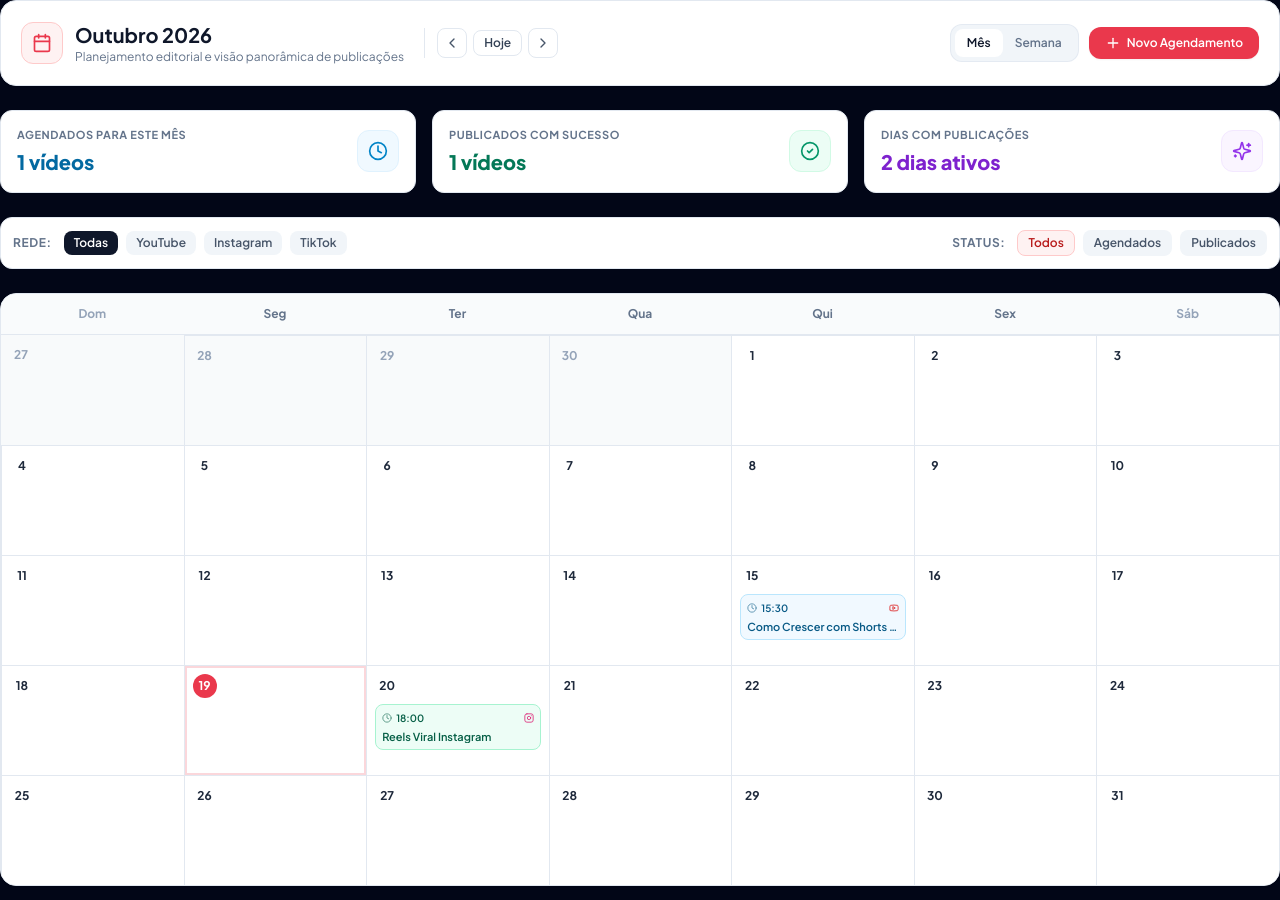
Test: CalendarView Component › filters posts by platform
Expected: the button with test id "calendar-post-pill-101" is shown, [740,594,906,640]
Expected: the button with test id "calendar-post-pill-102" is shown, [375,704,541,750]
Note: Filtrar por YouTube (só post 101 deve permanecer)
Click the button with test id "calendar-filter-platform-youtube" at point(161, 242), box [126,230,196,254]
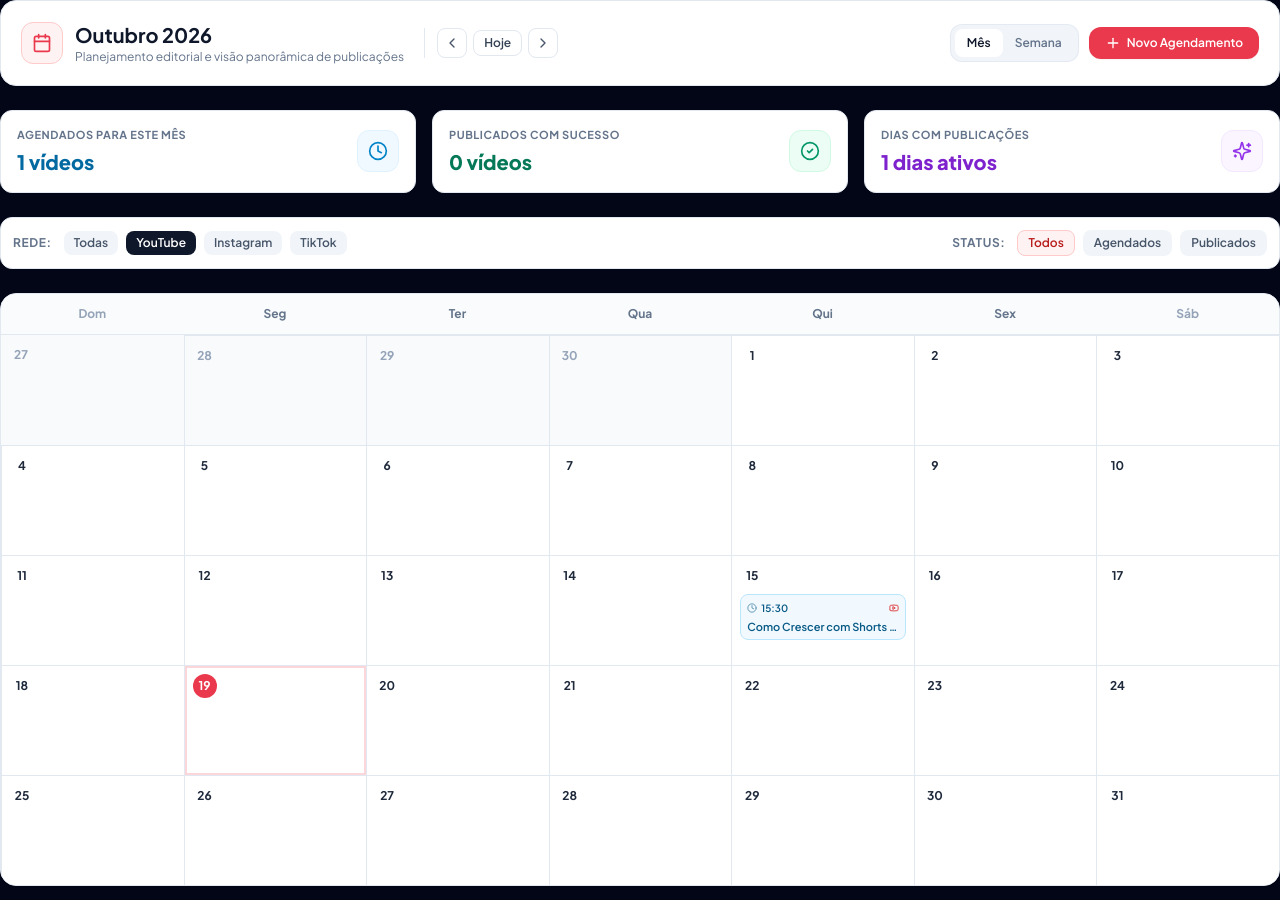
Expected: the button with test id "calendar-post-pill-101" is shown, [740,594,906,640]
Expected: the button with test id "calendar-post-pill-102" is gone
Note: Voltar para Todas
Click the button with test id "calendar-filter-platform-all" at point(91, 242), box [64,230,118,254]
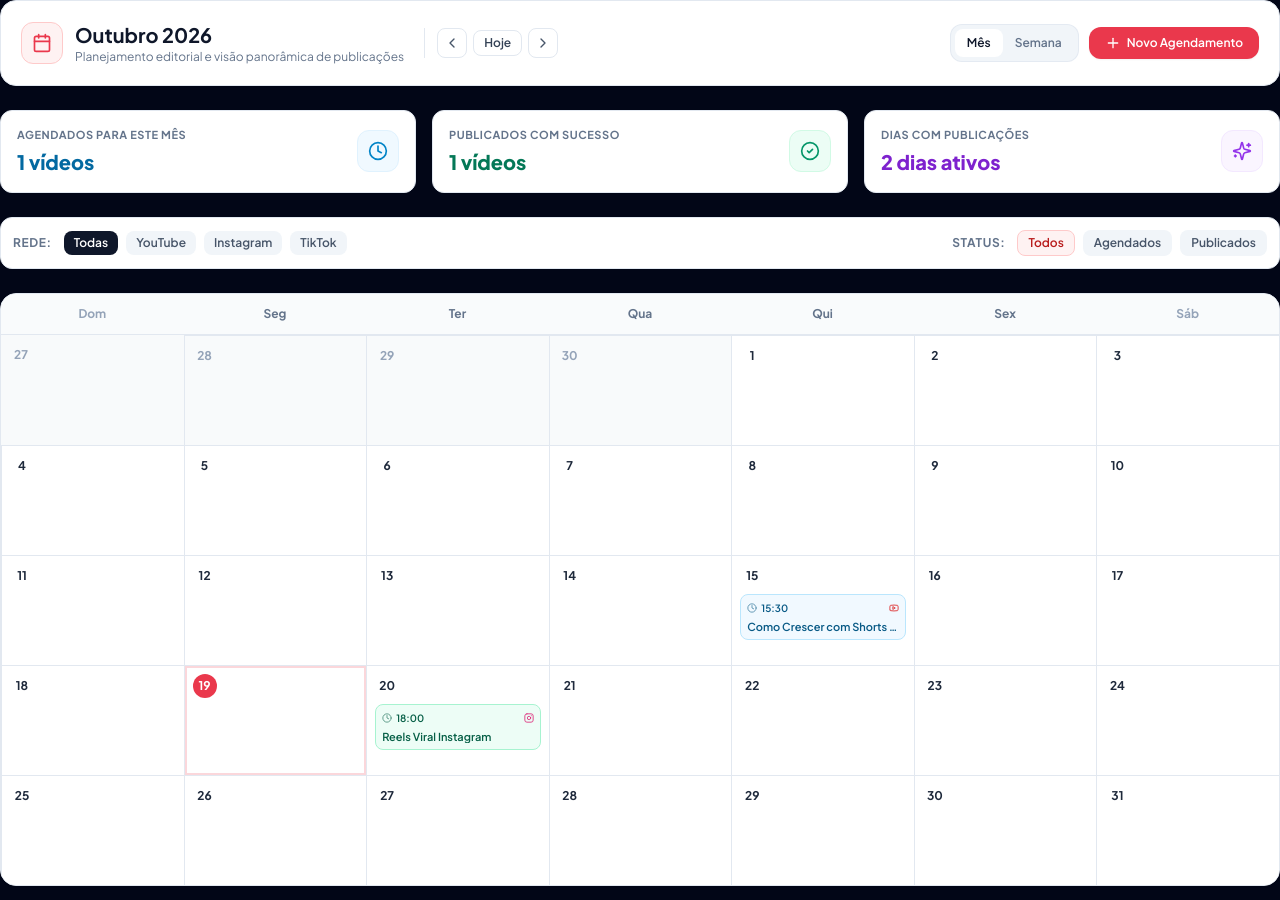
Expected: the button with test id "calendar-post-pill-101" is shown, [740,594,906,640]
Expected: the button with test id "calendar-post-pill-102" is shown, [375,704,541,750]
